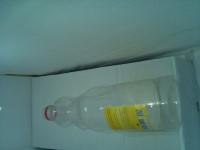bottle: (111, 0, 114, 30)
